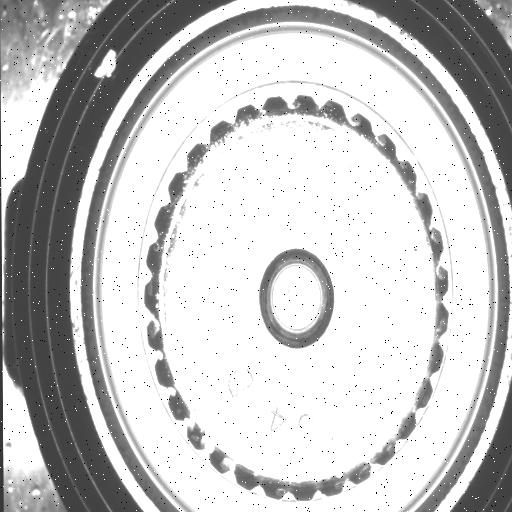gear: (142, 92, 452, 501)
